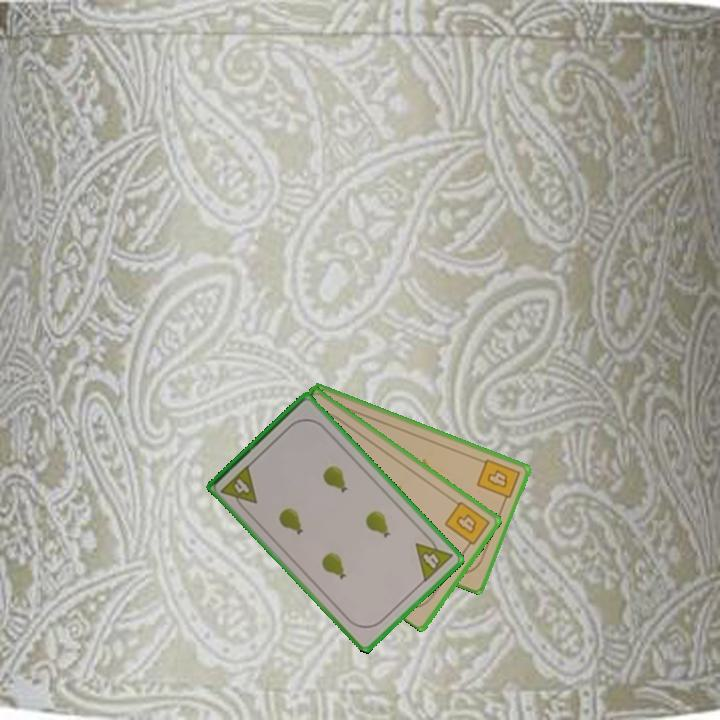4b: (441, 497, 493, 552), (473, 455, 523, 507)
4p: (412, 530, 456, 585), (217, 461, 260, 514)
